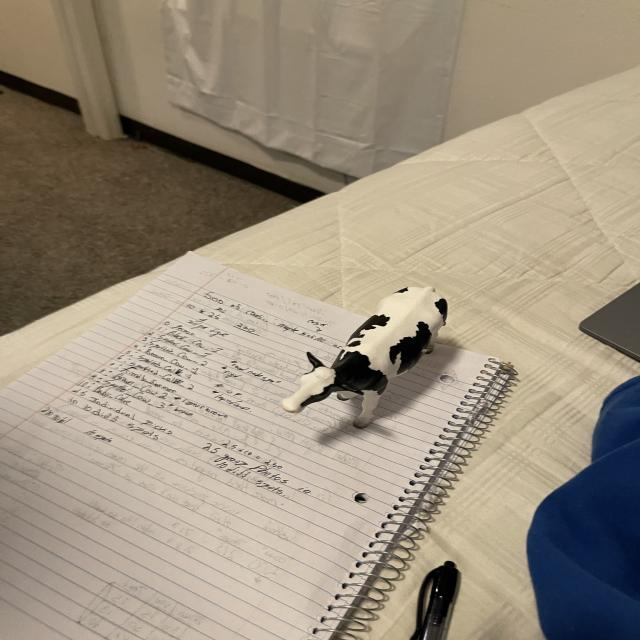cow: (269, 253, 463, 458)
